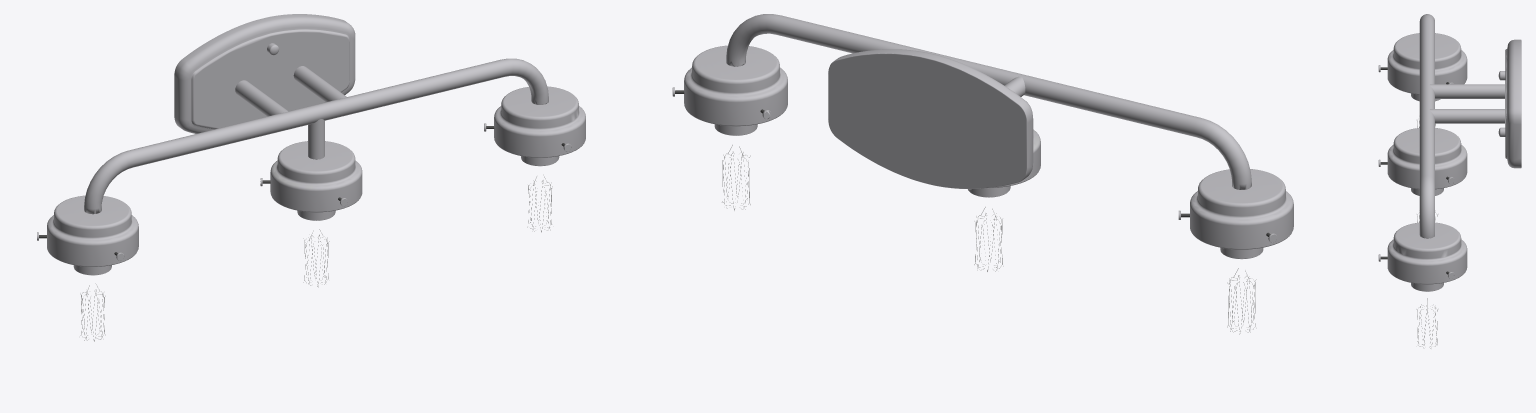
The model's file is abo-b07b4z9c39.0b5bc94465.glb.
The picture shows the model from 3 angles, left to right: view 1: azimuth 30°, elevation 25°; view 2: azimuth 150°, elevation 25°; view 3: azimuth 270°, elevation 25°; orthographic projection. The views are drawn at different scales.
Visible parts, largest first — view 1: "$AKJJCNGJEHBAAAAAICBAAAAAAAAAHCGNONBD"; view 2: "$AKJJCNGJEHBAAAAAICBAAAAAAAAAHCGNONBD"; view 3: "$AKJJCNGJEHBAAAAAICBAAAAAAAAAHCGNONBD".
Boxes of the visible parts, x1,y1,x2,y2 form: "$AKJJCNGJEHBAAAAAICBAAAAAAAAAHCGNONBD": (37, 14, 585, 341); "$AKJJCNGJEHBAAAAAICBAAAAAAAAAHCGNONBD": (672, 14, 1293, 334); "$AKJJCNGJEHBAAAAAICBAAAAAAAAAHCGNONBD": (1378, 14, 1521, 348).
Size of the model in its own units: 0.6376 by 0.2921 by 0.1773.
Materials: 1 (1 with a texture image).
